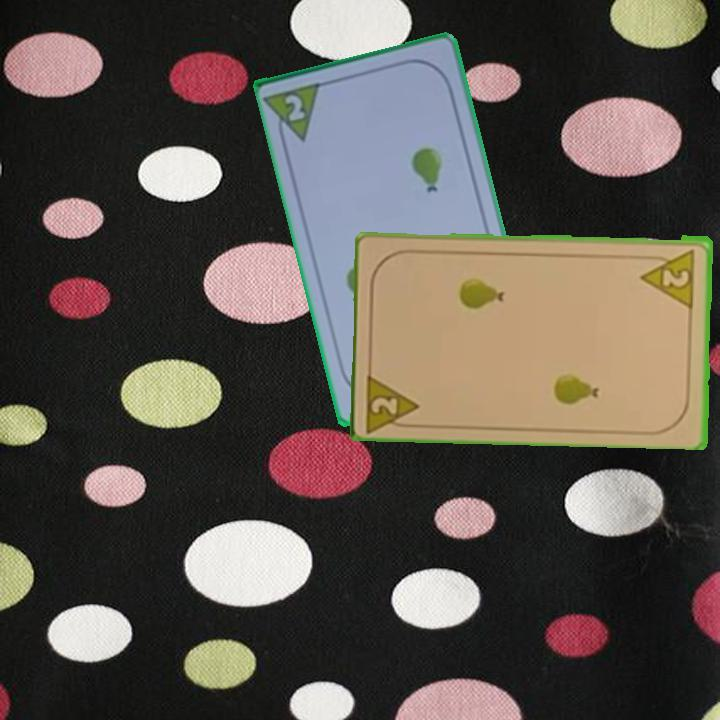2p: (362, 367, 423, 432), (638, 244, 698, 308), (281, 90, 309, 125)
